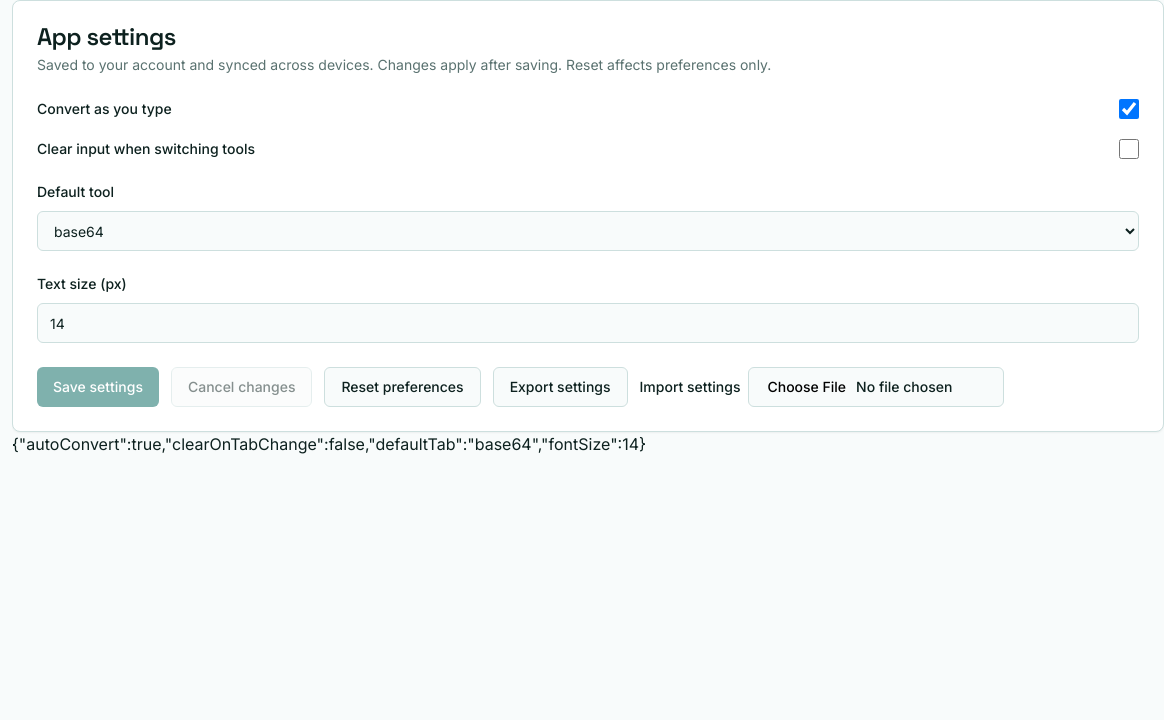
Test case: account settings persistence › rejects conflicting edits from another device
Replace the text in the number field labelled "Text size (px)" with "18" at (588, 323), box top-left (37, 303), bottom-right (1139, 343)
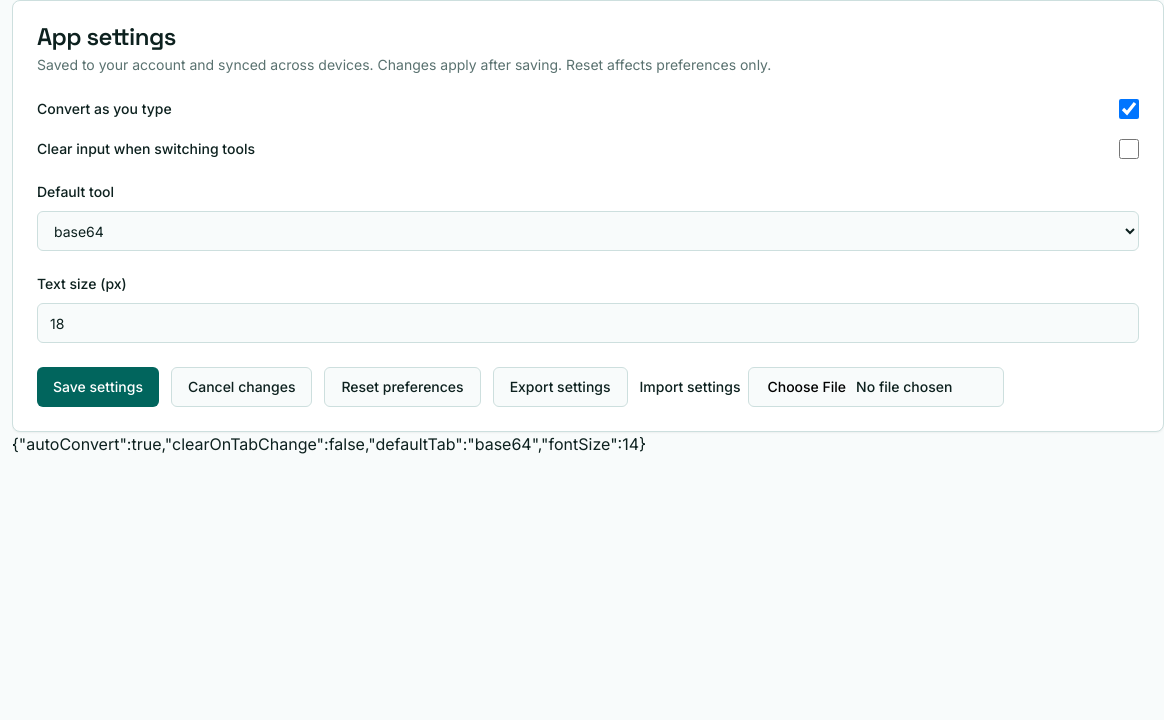
Click the button "Save settings" at (98, 387), box top-left (37, 367), bottom-right (159, 407)
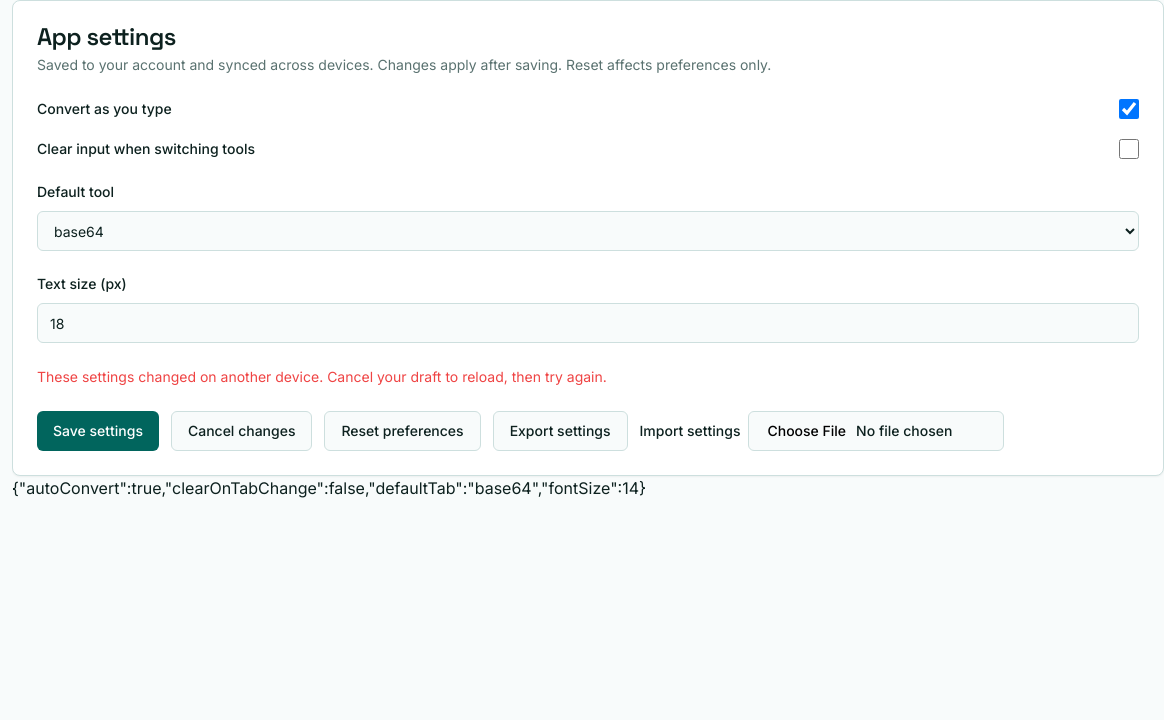
Result: the message shows "changed on another device" at top-left (37, 368), bottom-right (607, 385)
